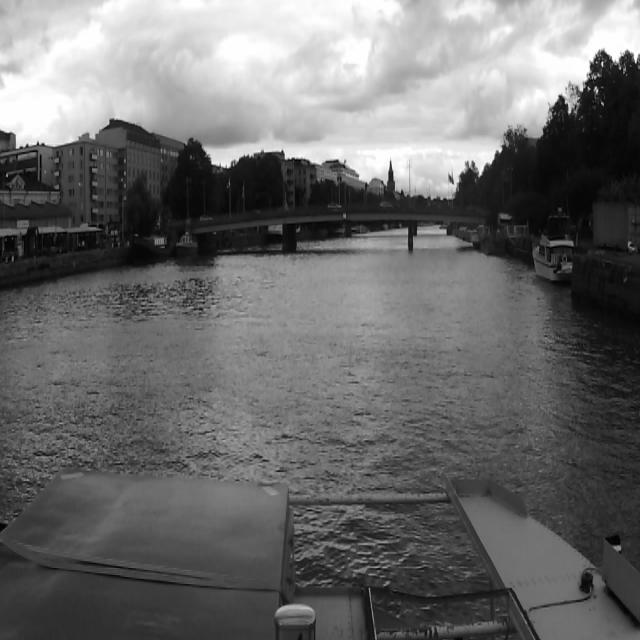ship: (533, 205, 571, 281), (134, 232, 176, 261), (177, 231, 197, 256)
